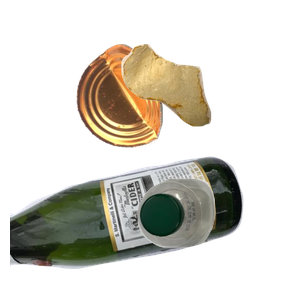glass: (10, 154, 246, 300)
metal: (74, 41, 229, 181)
plastic: (135, 176, 300, 300)
trash: (119, 42, 300, 161)
